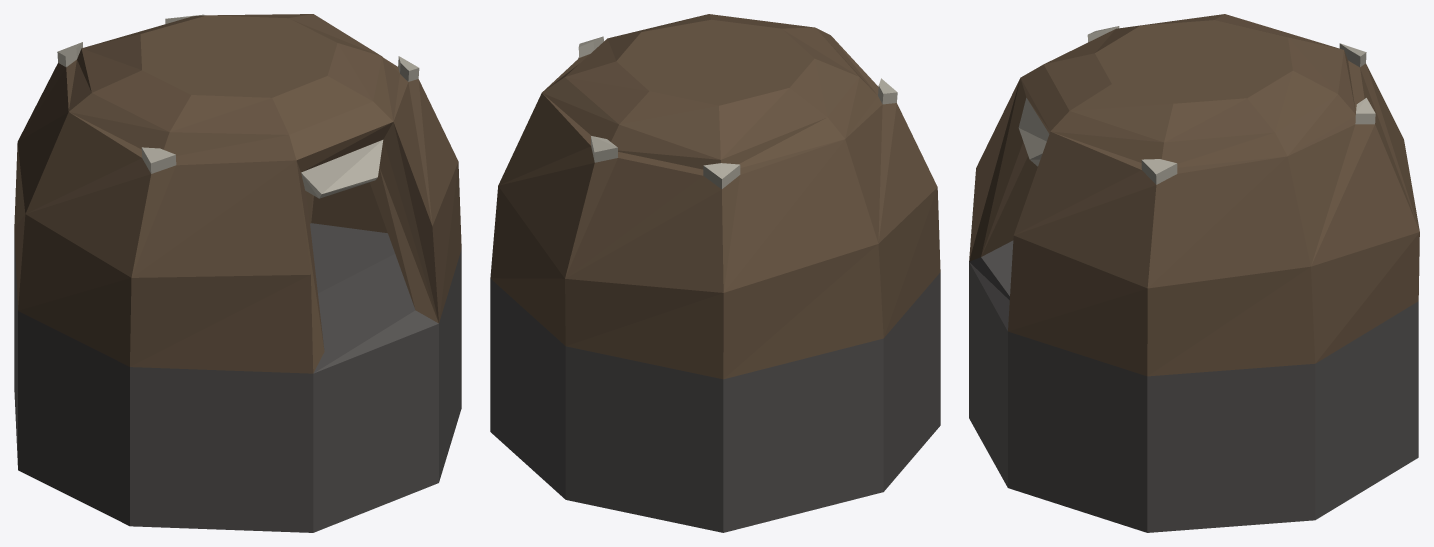
File: hut1.fbx
3 renders of one model, left to right at view 1: azimuth 30°, elevation 25°; view 2: azimuth 150°, elevation 25°; view 3: azimuth 270°, elevation 25°, orthographic. The views are drawn at different scales.
Parts seen in each view (by area): view 1: hut1; view 2: hut1; view 3: hut1.
Boxes of the visible parts, x1,y1,x2,y2 form: hut1: (14,14,461,532); hut1: (490,14,940,532); hut1: (969,14,1419,532).
Bounding box in the file's own units: 9.42 × 8.69 × 9.44.
